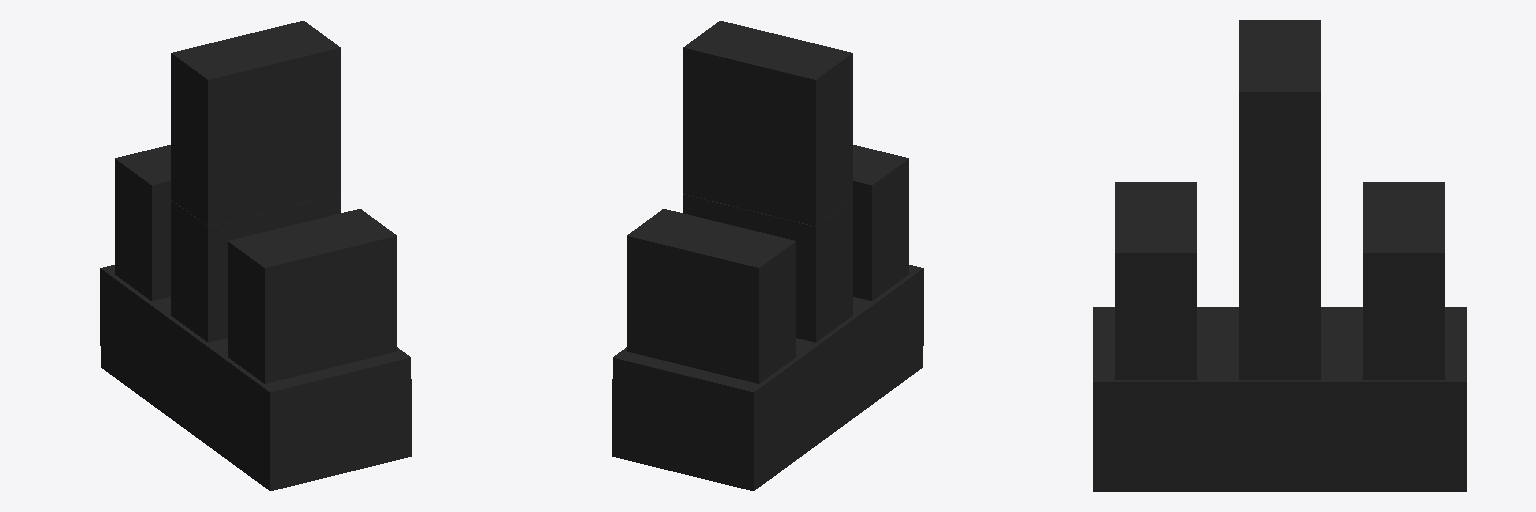
The robot description file, URDF, robot "mob_robot":
<?xml version='1.0'?>
<robot name="mob_robot">

  <!-- Base Link is waist bracet-->
  <link name="base_link">
    <visual>
      <origin xyz="0 0 0" rpy="0 4.71 0" />
      <geometry>
          <box size="0.02905 0.09013 0.04335"/>
      </geometry>
      <material name="darkgrey">
          <color rgba=".2 .2 .2 1" />
      </material>
    </visual>
    <!-- Collision on base_link-->
    <collision>
      <origin xyz="0 0 0" rpy="0 0 0" />
      <geometry>
          <box size="0.02905 0.09013 0.04335" />
      </geometry>
    </collision>
    <!--Mass in kilograms-->
    <inertial>
      <mass value="0.0005"/>
      <inertia ixx="0.13" ixy="0.0" ixz="0.0" iyy="0.21" iyz="0.0" izz="0.13" />
    </inertial>

    <!--chest bracet-->
    <visual>
      <origin xyz="0 0 0.027" rpy="0 0 0" />
      <geometry>
          <box size="0.0407 0.0197 0.0429"/>
      </geometry>
      <material name="darkgrey">
          <color rgba=".2 .2 .2 1" />
      </material>
    </visual>
    <collision>
      <origin xyz="0 0 0" rpy="0 0 0" />
      <geometry>
          <box size="0.407 0.197 0.429" />
      </geometry>
    </collision>
    <inertial>
      <mass value="0.055"/>
      <inertia ixx="0.13" ixy="0.0" ixz="0.0" iyy="0.21" iyz="0.0" izz="0.13" />
    </inertial>

    <!--right shoulder motor-->
    <visual>
      <origin xyz="0 0.03 0.027" rpy="0 0 0" />
      <geometry>
          <box size="0.0407 0.0197 0.0429"/>
      </geometry>
      <material name="darkgrey">
          <color rgba=".2 .2 .2 1" />
      </material>
    </visual>
    <collision>
      <origin xyz="0 0 0" rpy="0 0 0" />
      <geometry>
          <box size="0.407 0.197 0.429" />
      </geometry>
    </collision>
    <inertial>
      <mass value="0.055"/>
      <inertia ixx="0.13" ixy="0.0" ixz="0.0" iyy="0.21" iyz="0.0" izz="0.13" />
    </inertial>

    <!--left shoulder motor-->
    <visual>
      <origin xyz="0 -0.03 0.027" rpy="0 0 0" />
      <geometry>
          <box size="0.0407 0.0197 0.0429"/>
      </geometry>
      <material name="darkgrey">
          <color rgba=".2 .2 .2 1" />
      </material>
    </visual>
    <collision>
      <origin xyz="0 0 0" rpy="0 0 0" />
      <geometry>
          <box size="0.407 0.197 0.429" />
      </geometry>
    </collision>
    <inertial>
      <mass value="0.055"/>
      <inertia ixx="0.13" ixy="0.0" ixz="0.0" iyy="0.21" iyz="0.0" izz="0.13" />
    </inertial>

  </link>

  <!--head motor-->
  <link name="head_motor">
    <visual>
      <origin xyz="0 0 0" rpy="0 0 0" />
      <geometry>
          <box size="0.0407 0.0197 0.0429"/>
      </geometry>
      <material name="darkgrey">
          <color rgba=".2 .2 .2 1" />
      </material>
    </visual>
    <collision>
      <origin xyz="0 0 0" rpy="0 0 0" />
      <geometry>
          <box size="0.407 0.197 0.429" />
      </geometry>
    </collision>
    <inertial>
      <mass value="0.055"/>
      <inertia ixx="0.13" ixy="0.0" ixz="0.0" iyy="0.21" iyz="0.0" izz="0.13" />
    </inertial>
  </link>

  <!--This is the head/chest joint -->
  <joint name="head_joint" type="revolute">
    <limit effort="1000.0" lower="-1.0" upper="1.0" velocity="0.5"/>
    <parent link="base_link"/>
    <child link="head_motor"/>
    <origin xyz="0 0 0.07" rpy="0 0 0" />
    <axis xyz="0 0 1" />
  </joint>

</robot>

--- What the picture shows (computed from the rendered views, not written in the file) ---
Views: 3 orthographic renders of the robot side by side, from view 1: azimuth 30°, elevation 25°; view 2: azimuth 150°, elevation 25°; view 3: azimuth 270°, elevation 25°.
Model mob_robot with 2 links and 1 joints (1 revolute), rooted at base_link, posed all joints at 0.
Links seen in each view (by area): view 1: base_link, head_motor; view 2: base_link, head_motor; view 3: base_link, head_motor.
Link boxes in pixels (left/top/right/bottom): base_link: left=100, top=145, right=411, bottom=490; head_motor: left=171, top=21, right=340, bottom=225; base_link: left=612, top=145, right=923, bottom=490; head_motor: left=683, top=21, right=852, bottom=225; base_link: left=1093, top=182, right=1466, bottom=491; head_motor: left=1239, top=20, right=1320, bottom=252.
Bounding box of the posed robot: 0.0434 × 0.0901 × 0.106 m (x, y, z).
Geometry: primitives only (box / cylinder / sphere), no mesh files.